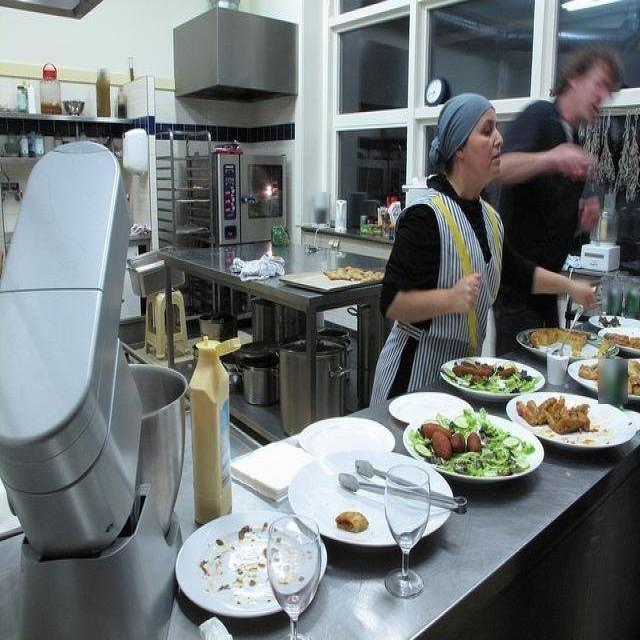glass-wine: (268, 512, 322, 639), (383, 465, 430, 595)
